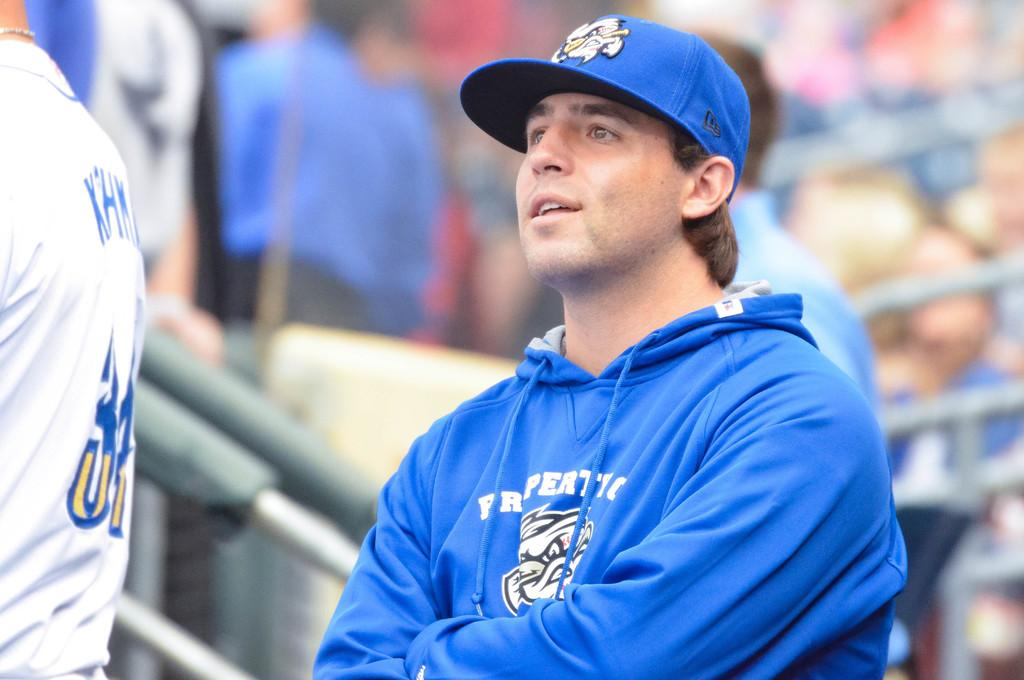Hat: (458, 11, 754, 200)
